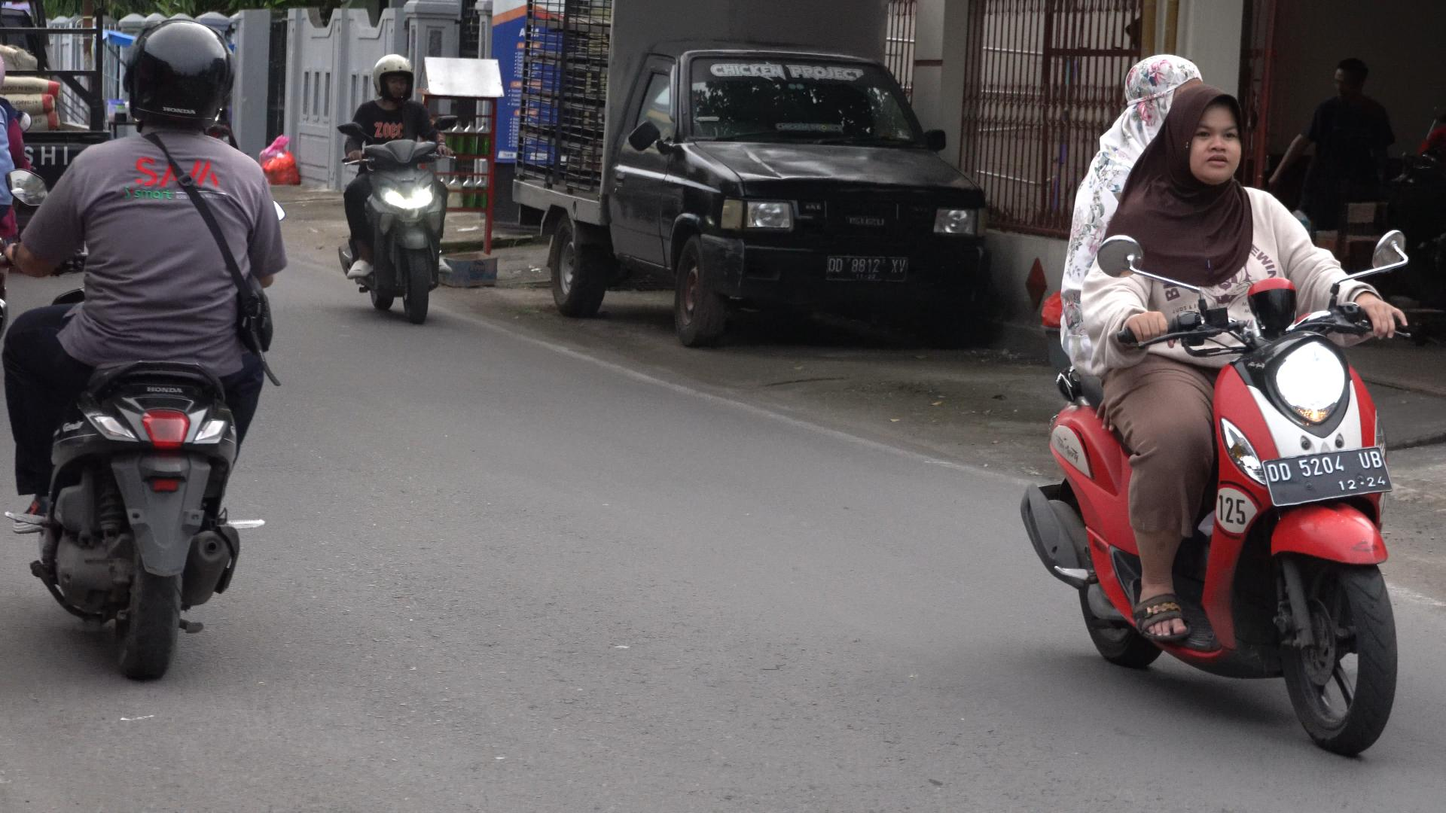number-plate: (1262, 441, 1396, 509)
